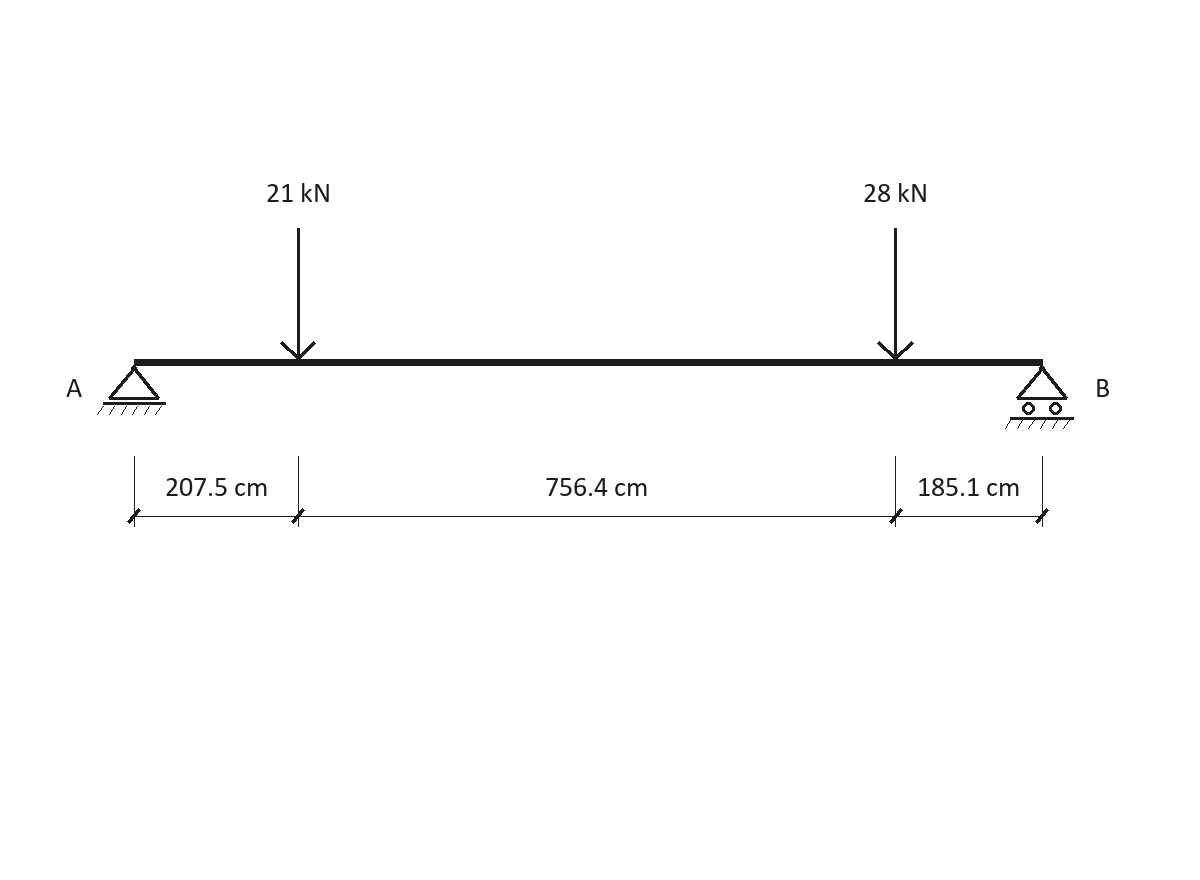pin_support: (97, 365, 166, 415)
point_load: (877, 228, 914, 360), (280, 228, 316, 360)
roller_support: (1005, 365, 1074, 429)
